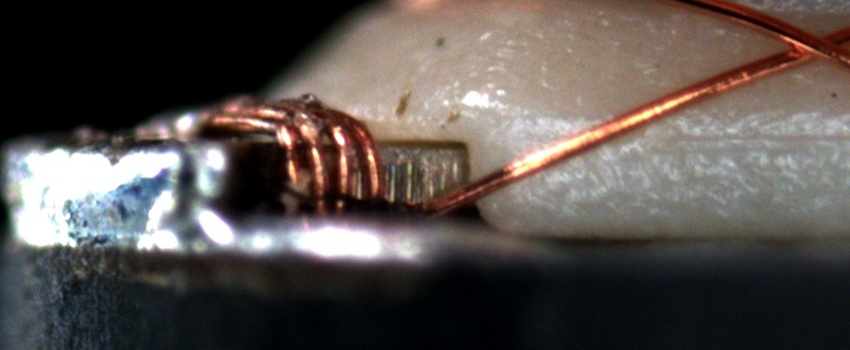CL: (761, 18, 845, 72)
DL: (516, 108, 850, 171)
TE: (165, 93, 400, 210)
